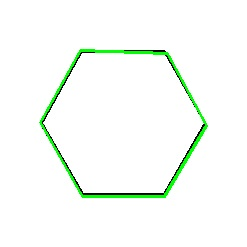line_segment: (40, 49, 207, 197)
